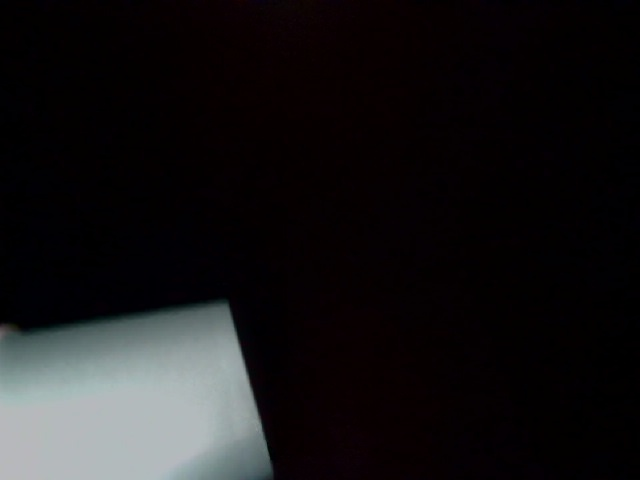CYLJ: (255, 217, 350, 332)
